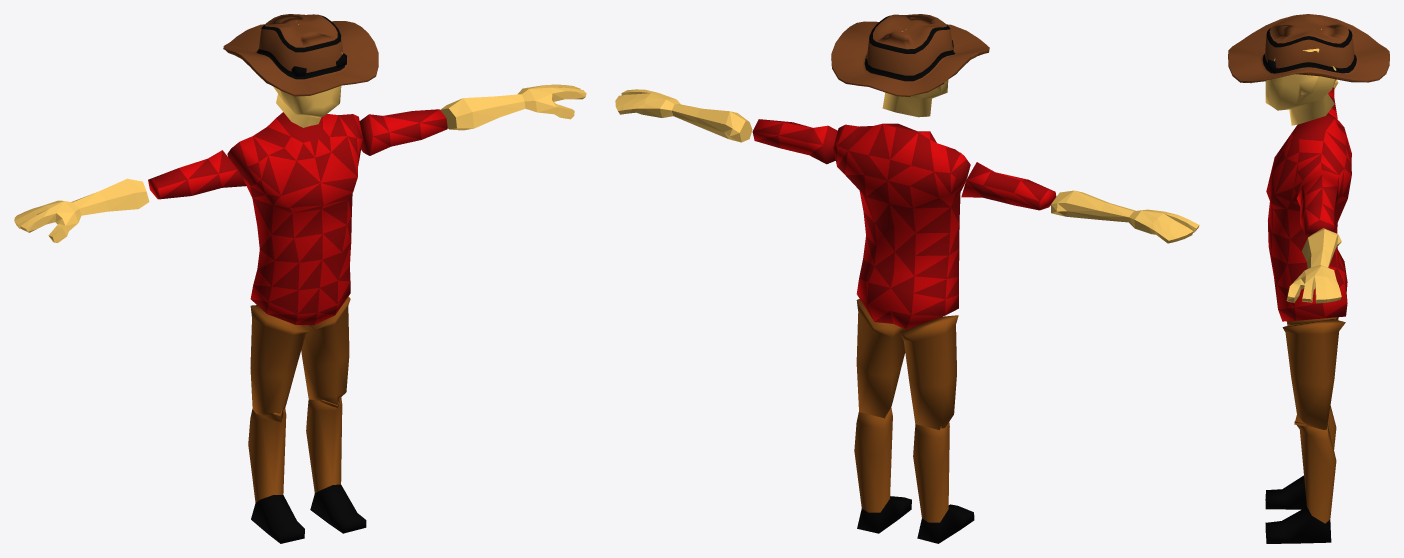
Rendered from Characters1.3 .fbx.
The picture shows the model from 3 angles, left to right: view 1: azimuth 30°, elevation 25°; view 2: azimuth 150°, elevation 25°; view 3: azimuth 270°, elevation 25°; orthographic projection.
Visible parts, largest first — view 1: Character_Male_Face_01, Circle, Character_Male_Face_01.007, Character_Male_Face_01.005, Character_Male_Face_01.004, Character_Male_Face_01.010, Character_Male_Face_01.002, Character_Male_Face_01.003, Character_Male_Face_01.009, Character_Male_Face_01.008, Character_Male_Face_01.001; view 2: Character_Male_Face_01, Circle, Character_Male_Face_01.007, Character_Male_Face_01.004, Character_Male_Face_01.005, Character_Male_Face_01.010, Character_Male_Face_01.003, Character_Male_Face_01.002, Character_Male_Face_01.009, Character_Male_Face_01.008, Character_Male_Face_01.001; view 3: Character_Male_Face_01, Circle, Character_Male_Face_01.010, Character_Male_Face_01.004, Character_Male_Face_01.001, Character_Male_Face_01.002, Character_Male_Face_01.008, Character_Male_Face_01.005.
Part boxes in pixels (x1=…): Character_Male_Face_01: x1=227, y1=112, x2=362, y2=325; Circle: x1=223, y1=14, x2=378, y2=96; Character_Male_Face_01.007: x1=250, y1=305, x2=309, y2=422; Character_Male_Face_01.005: x1=248, y1=408, x2=304, y2=543; Character_Male_Face_01.004: x1=306, y1=397, x2=366, y2=533; Character_Male_Face_01.010: x1=301, y1=296, x2=350, y2=407; Character_Male_Face_01.002: x1=440, y1=84, x2=586, y2=130; Character_Male_Face_01.003: x1=14, y1=178, x2=149, y2=242; Character_Male_Face_01.009: x1=148, y1=150, x2=246, y2=199; Character_Male_Face_01.008: x1=359, y1=109, x2=447, y2=155; Character_Male_Face_01.001: x1=273, y1=21, x2=346, y2=127; Character_Male_Face_01: x1=833, y1=123, x2=970, y2=329; Circle: x1=831, y1=14, x2=989, y2=96; Character_Male_Face_01.007: x1=899, y1=315, x2=958, y2=429; Character_Male_Face_01.004: x1=854, y1=408, x2=911, y2=533; Character_Male_Face_01.005: x1=913, y1=422, x2=974, y2=543; Character_Male_Face_01.010: x1=856, y1=299, x2=905, y2=418; Character_Male_Face_01.003: x1=1051, y1=190, x2=1199, y2=243; Character_Male_Face_01.002: x1=615, y1=89, x2=752, y2=142; Character_Male_Face_01.009: x1=961, y1=162, x2=1056, y2=210; Character_Male_Face_01.008: x1=752, y1=119, x2=837, y2=164; Character_Male_Face_01.001: x1=866, y1=29, x2=953, y2=117; Character_Male_Face_01: x1=1266, y1=113, x2=1351, y2=321; Circle: x1=1228, y1=14, x2=1389, y2=83; Character_Male_Face_01.010: x1=1282, y1=319, x2=1345, y2=429; Character_Male_Face_01.004: x1=1265, y1=421, x2=1336, y2=543; Character_Male_Face_01.001: x1=1265, y1=29, x2=1336, y2=125; Character_Male_Face_01.002: x1=1286, y1=228, x2=1341, y2=303; Character_Male_Face_01.008: x1=1296, y1=175, x2=1338, y2=236; Character_Male_Face_01.005: x1=1265, y1=405, x2=1336, y2=509.
Bounding box in the file's own units: 22135 × 18712 × 5520.
